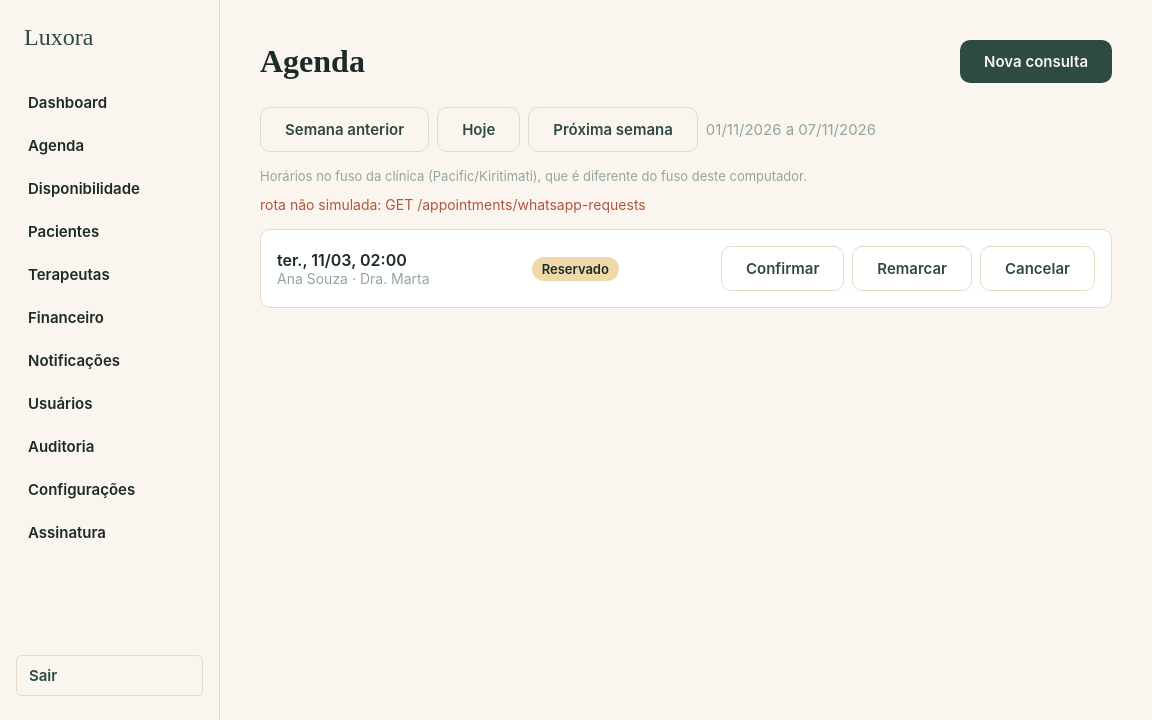
Agenda — clínica em um fuso diferente do computador › marcar consulta: o dia escolhido é um dia da clínica, os horários aparecem na hora de lá e o instante enviado é o do horário
The image size is (1152, 720).
Click the button "Nova consulta" at x=1036, y=62, box [960,40,1112,83]
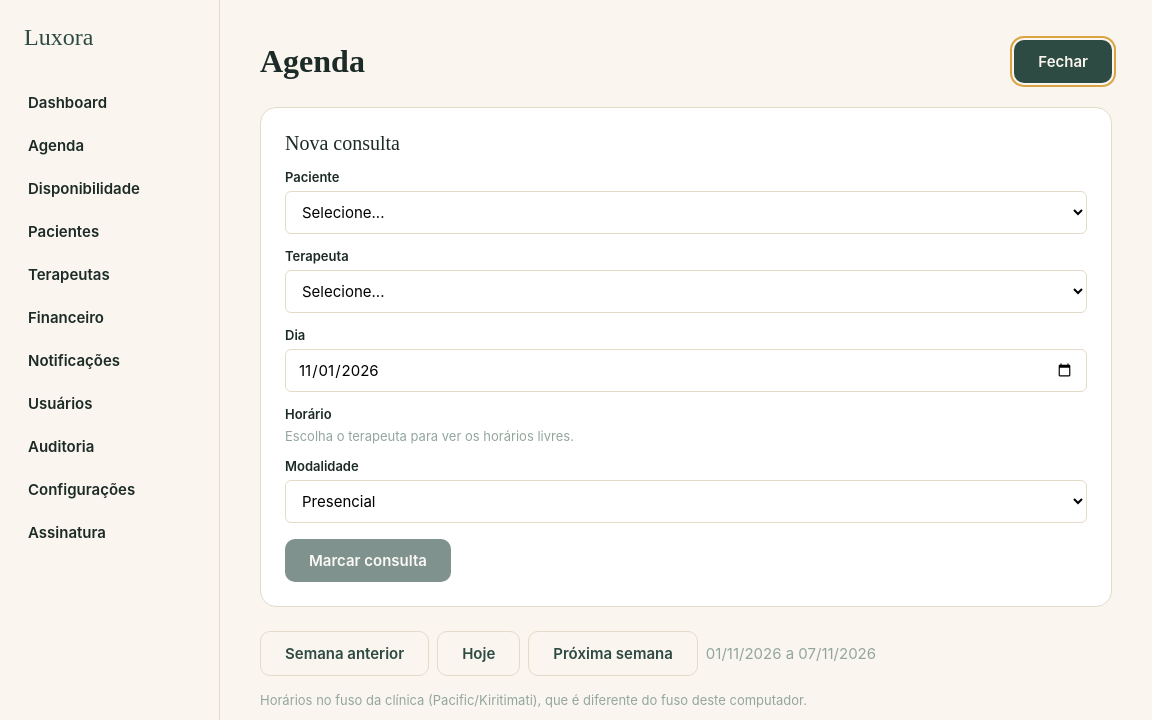
Select "Ana Souza" in the dropdown labelled "Paciente" at x=686, y=212, box [285,191,1087,234]
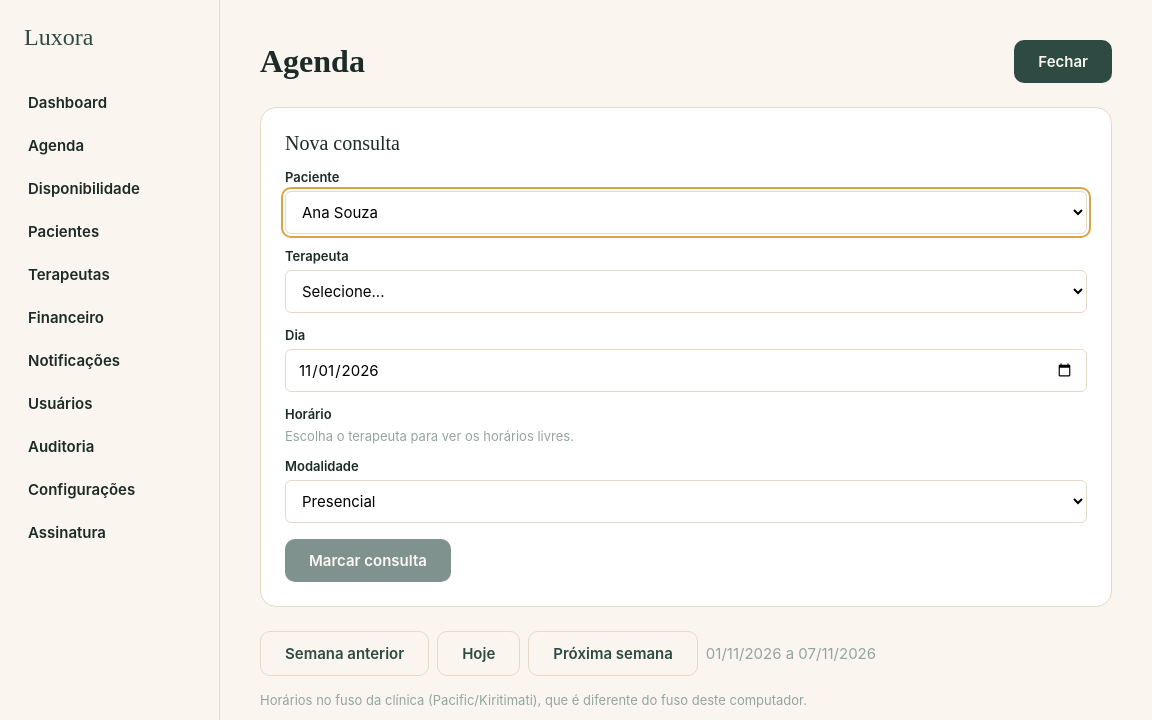
Select "Dra. Marta" in the dropdown labelled "Terapeuta" at x=686, y=292, box [285,270,1087,313]
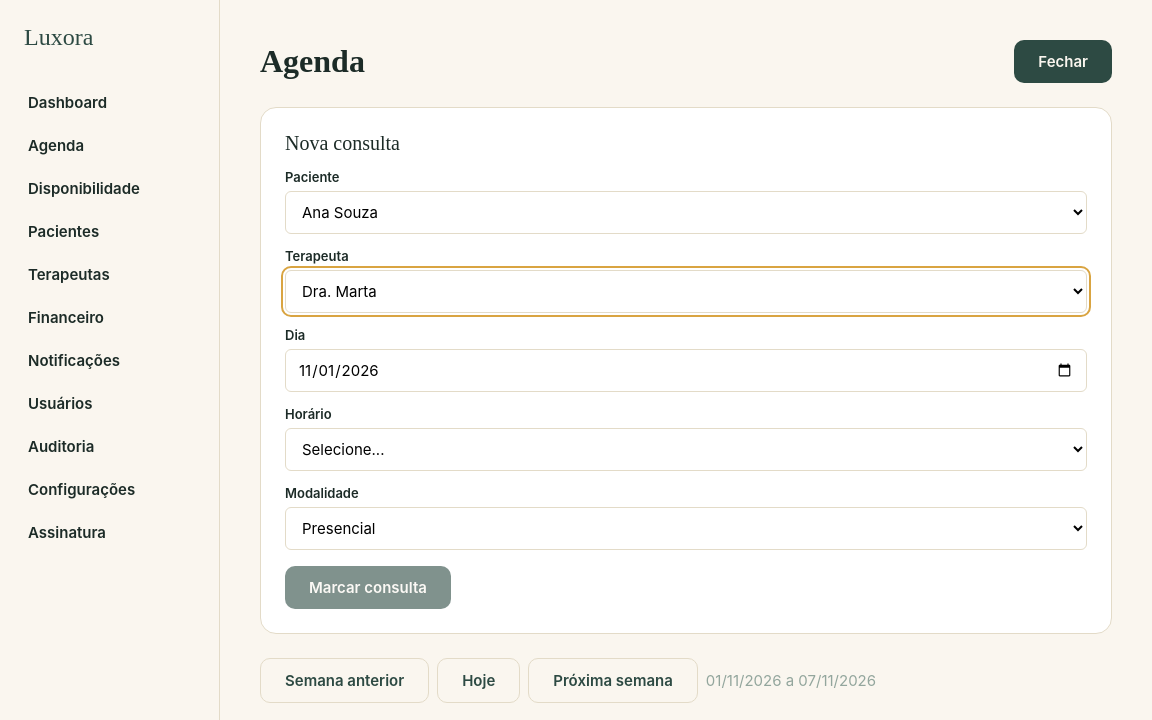
Type "2031-03-11" into the date field labelled "Dia" at x=686, y=370, box [285,349,1087,392]
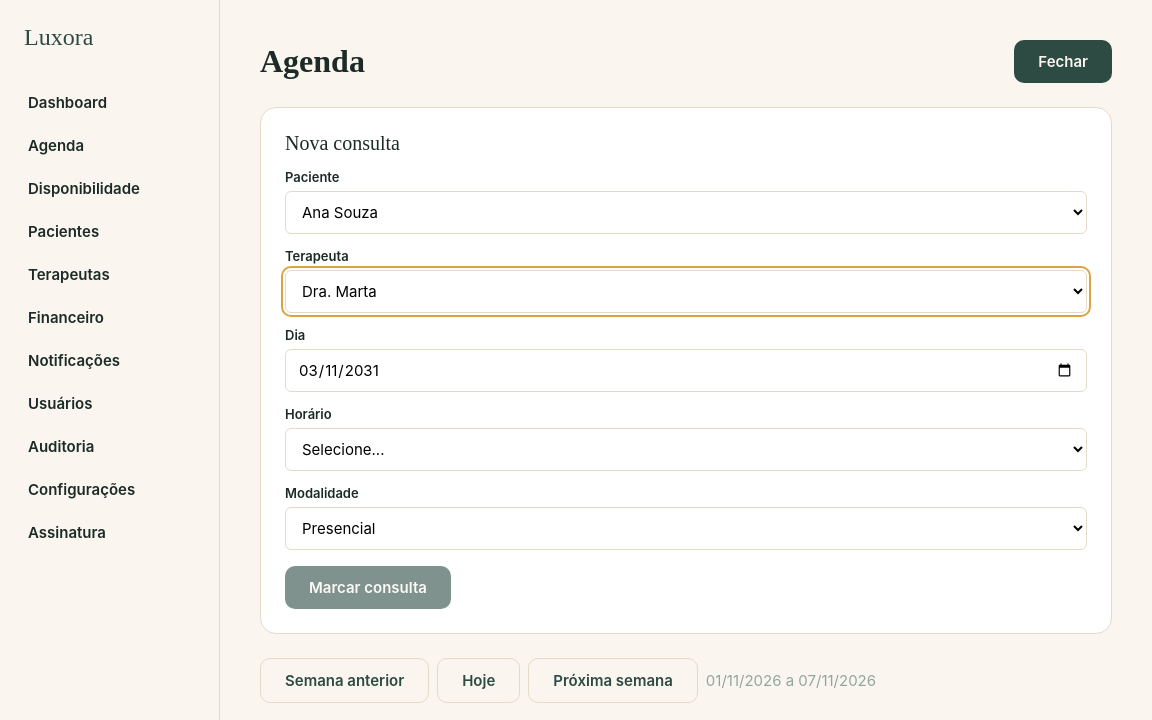
Select "09:00 – 09:50" in the dropdown labelled "Horário" at x=686, y=450, box [285,428,1087,471]
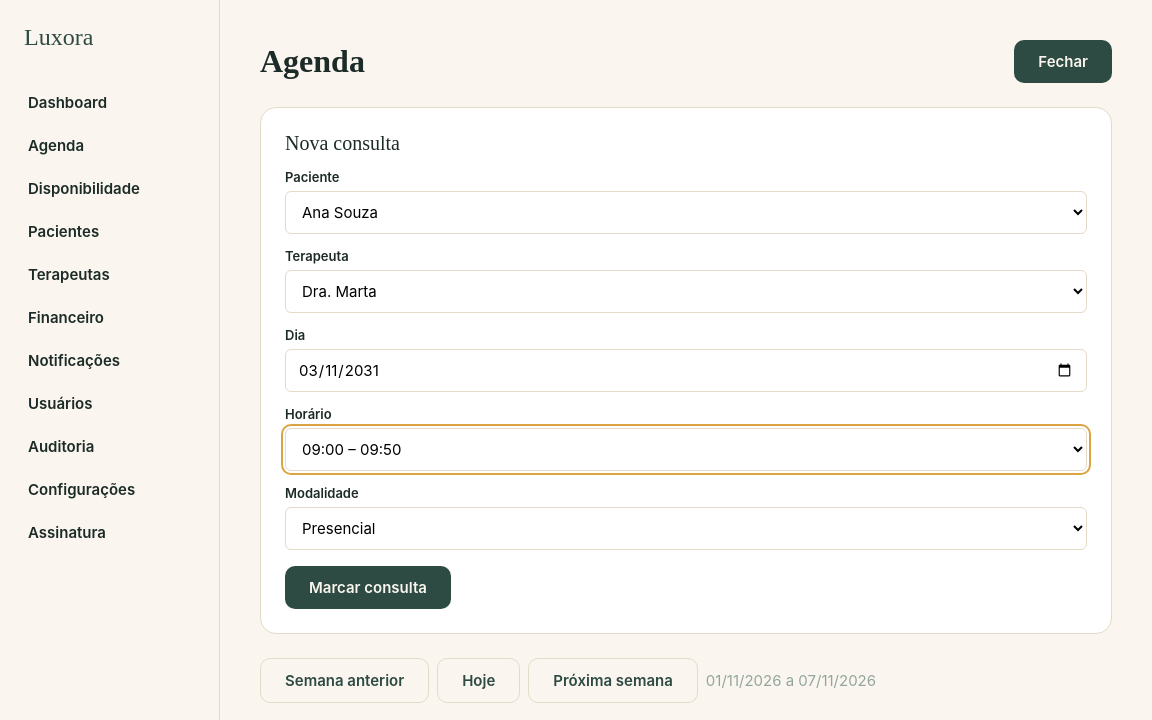
Click the button "Marcar consulta" at x=368, y=588, box [285,566,451,609]
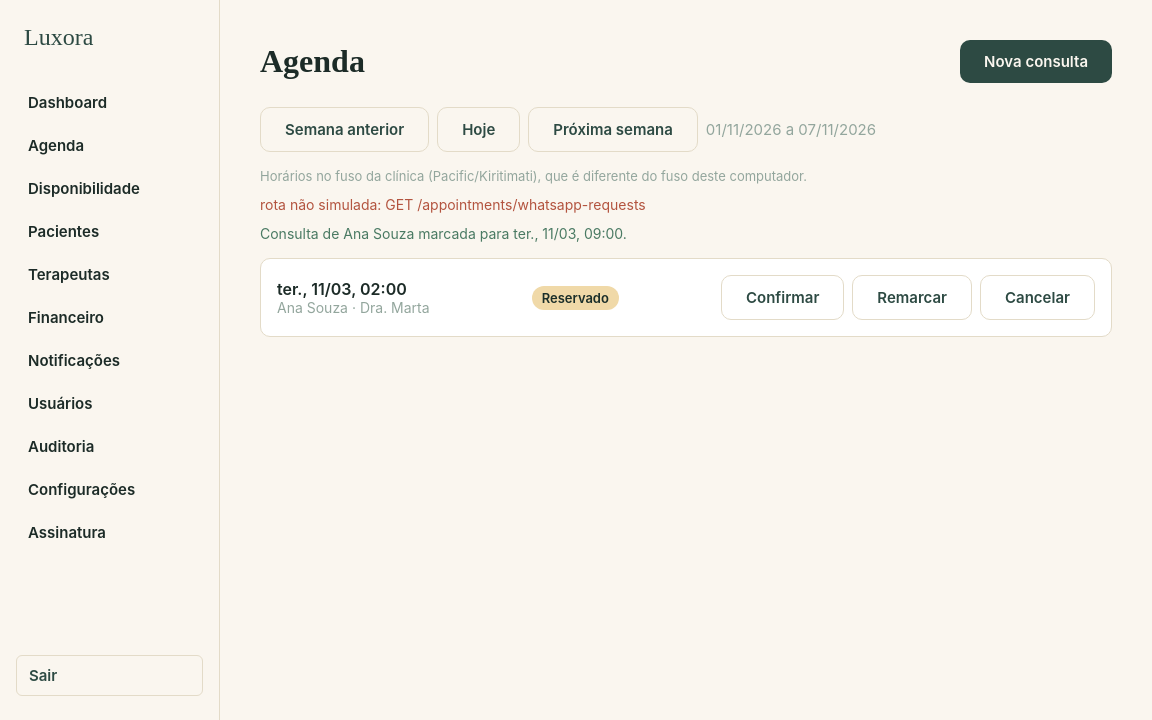
Now the message "Consulta de Ana Souza marcada para ter., 11/03, 09:00." is shown, box [260,225,627,242]
